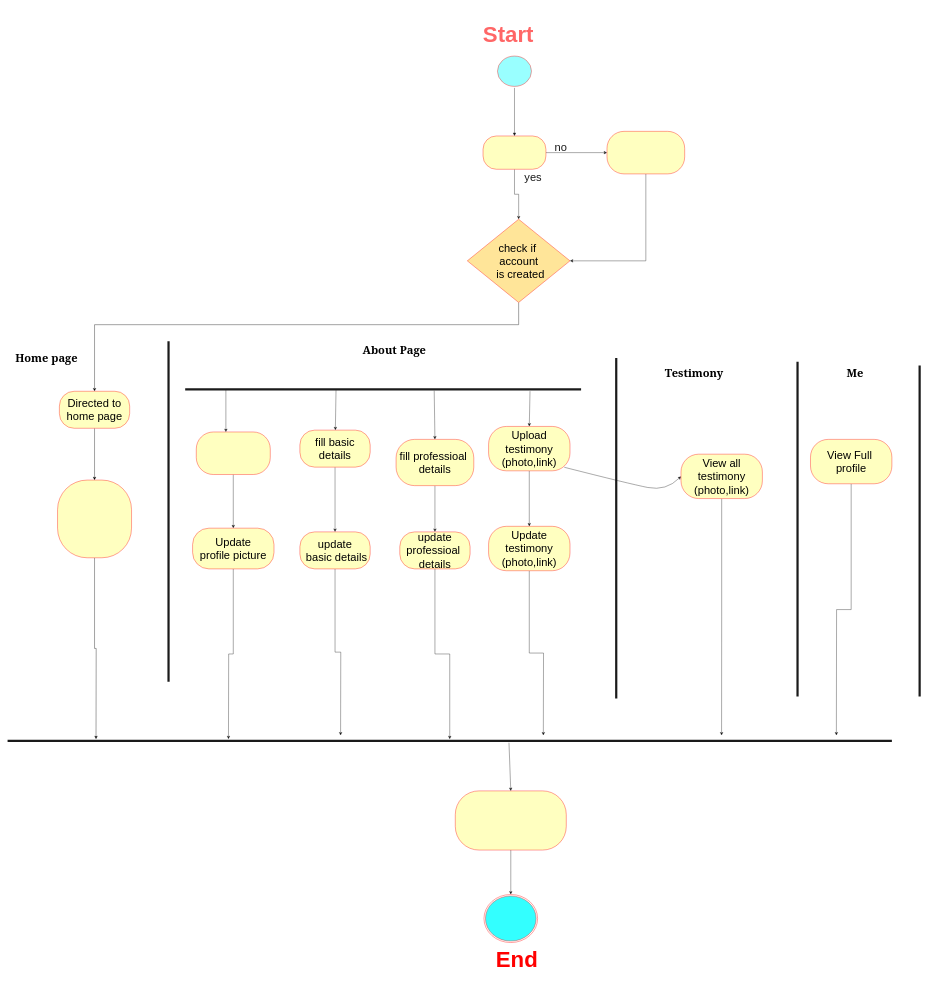
The diagram is 929 pixels wide and 986 high, and some of its shapes have lost their labels. Here are the shapes that lost their labels. From the top down, the centre of each, then its label:
At pixel 514 152: "login".
At pixel 646 152: "Creates an account".
At pixel 233 453: "Upload profile picture".
At pixel 94 519: "see profiles of other user".
At pixel 510 820: "Logout".
